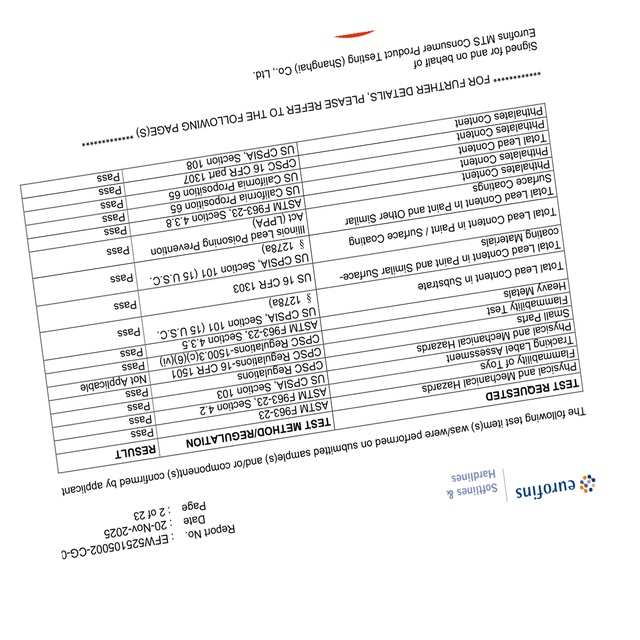eurofins: (512, 472, 602, 503)
